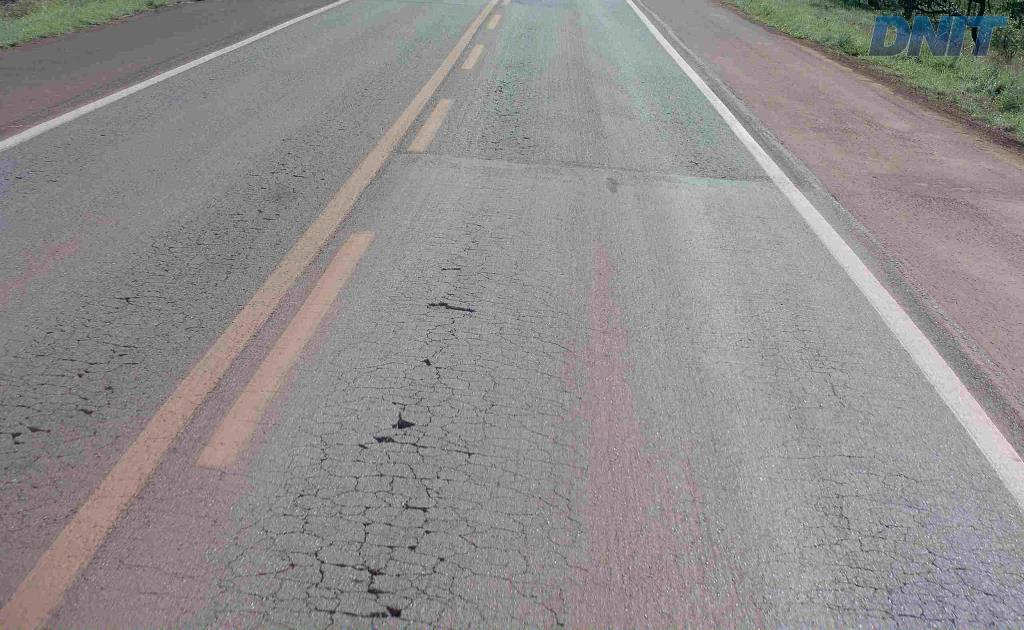crack: (288, 543, 414, 628)
